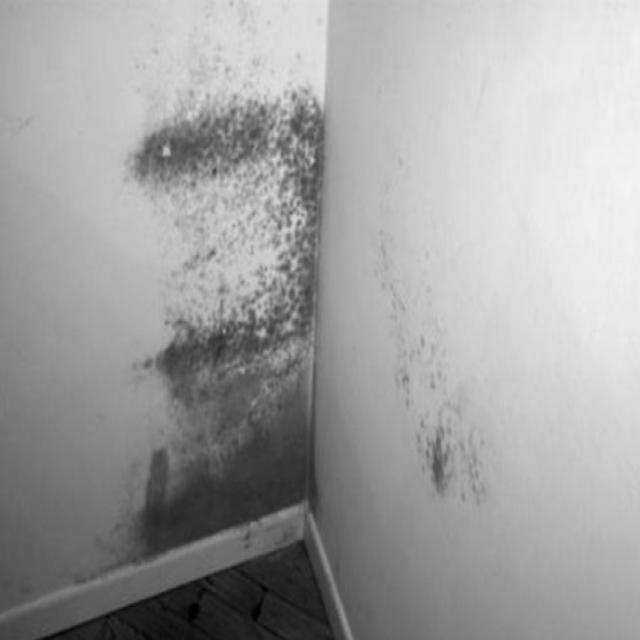stain marks: (70, 0, 322, 583), (370, 218, 490, 510), (373, 122, 417, 215)
